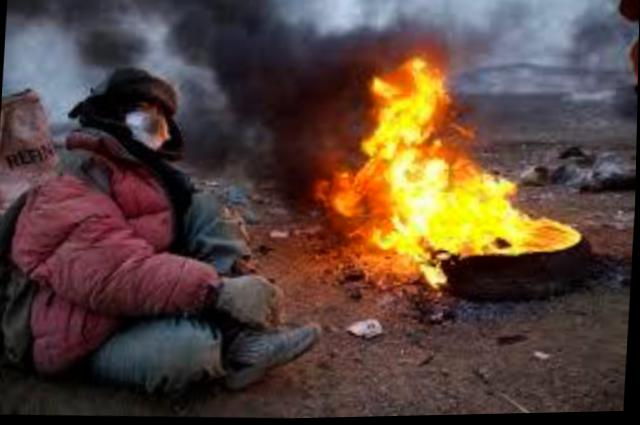fire: (315, 47, 599, 282)
